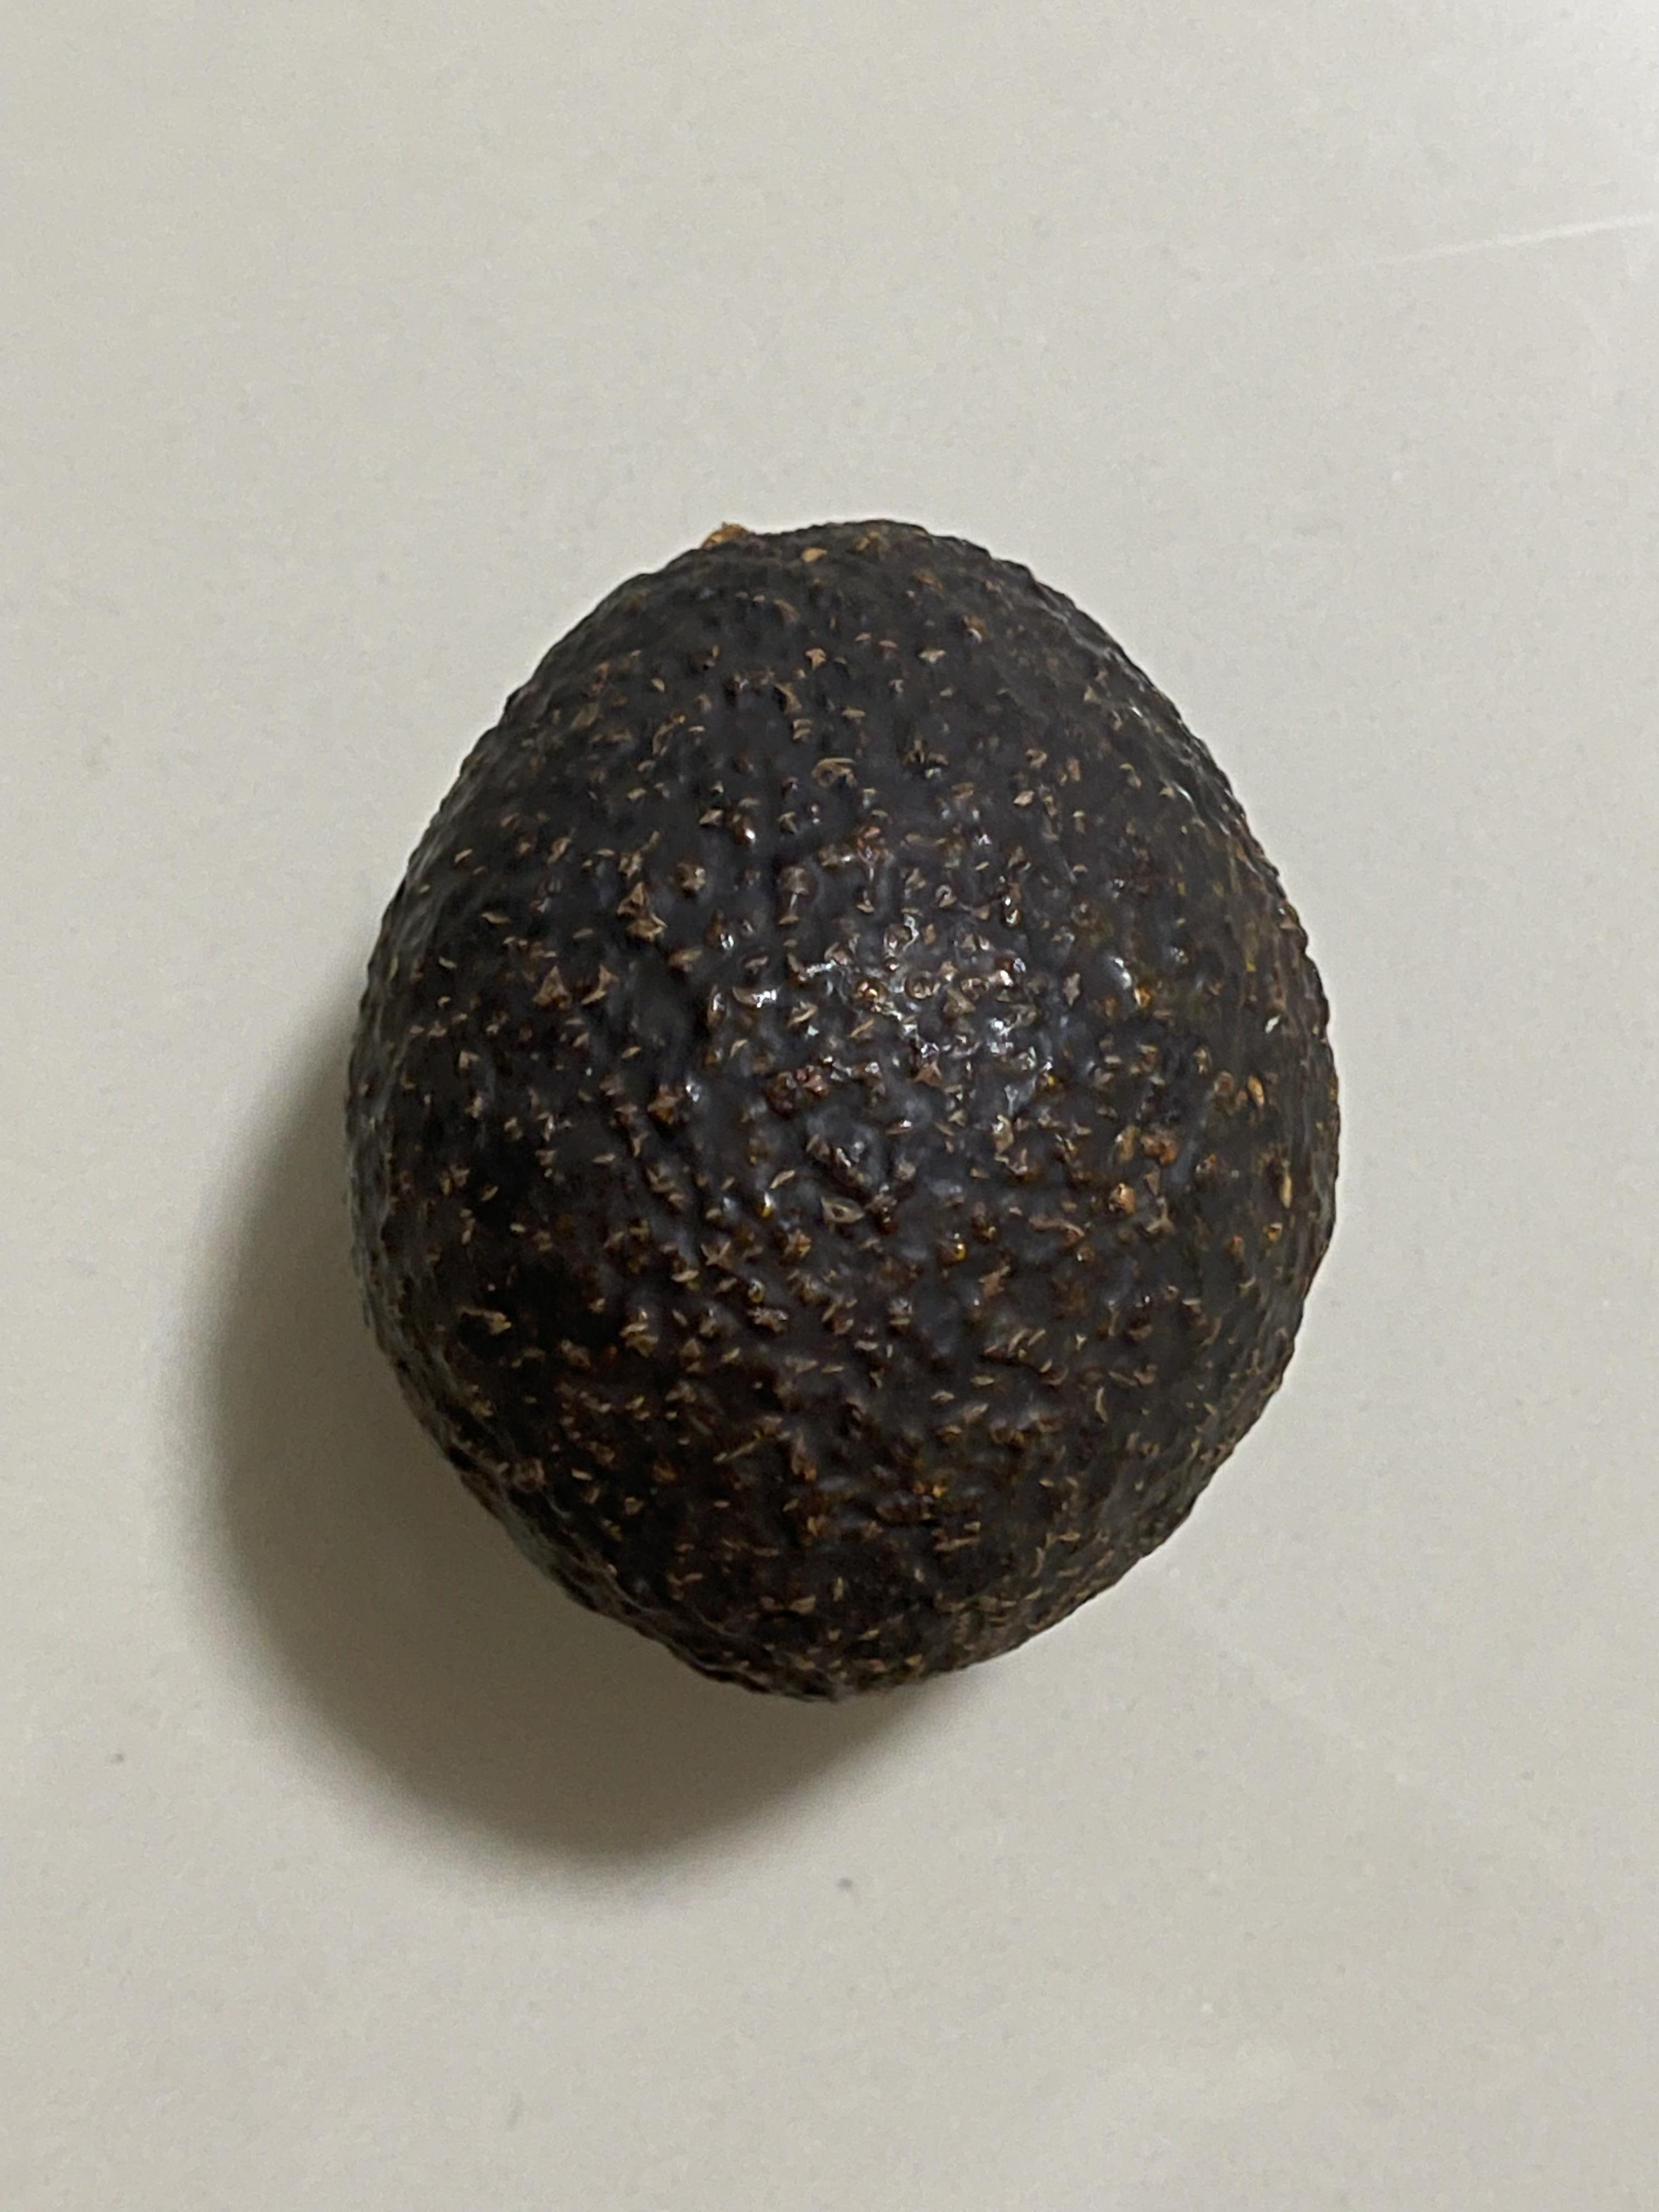Level2: (335, 493, 1356, 1712)
